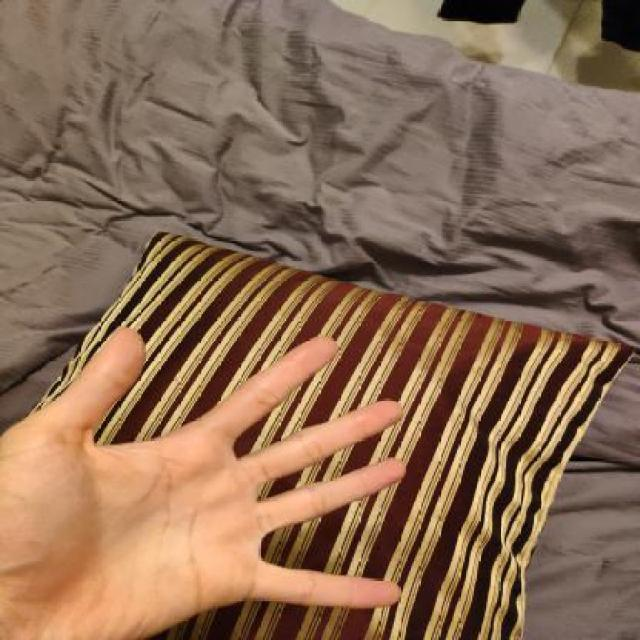bare_hand: (2, 311, 433, 640)
